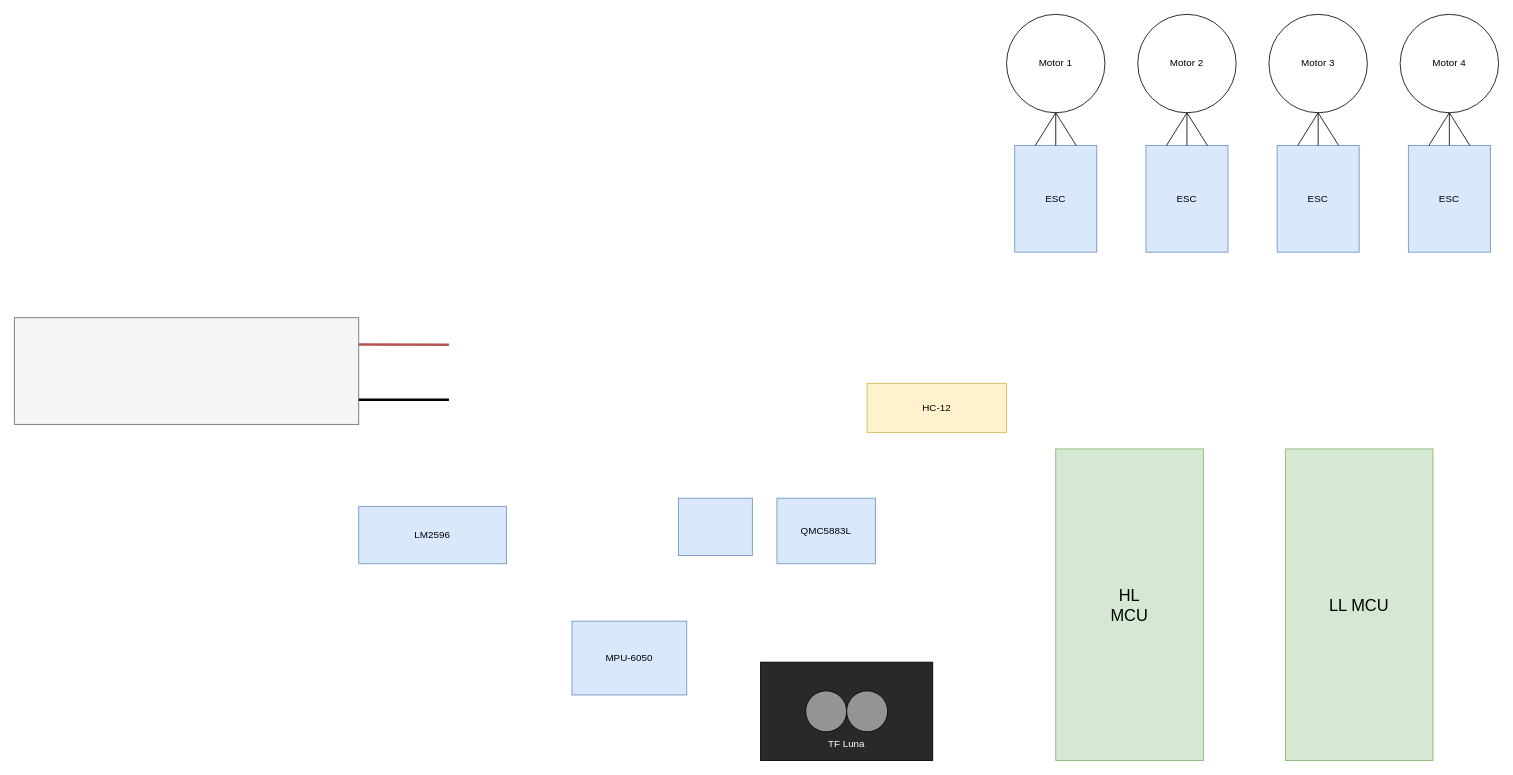
Image size: 1513x775. Some labels were removed from this diagram. Here are the shapes that lost their labels. From the top down, the centre of each, then its label:
the point at 186,370: 4S LiPo
the point at 715,526: BMP180
